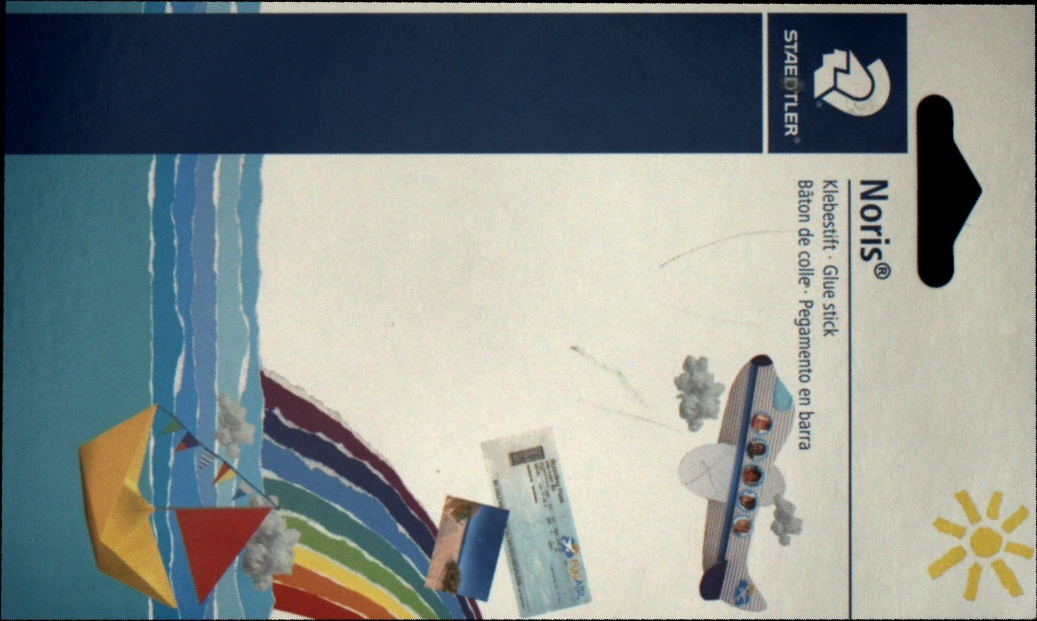scratch: (633, 229, 793, 315), (559, 343, 681, 438), (686, 454, 730, 494)
